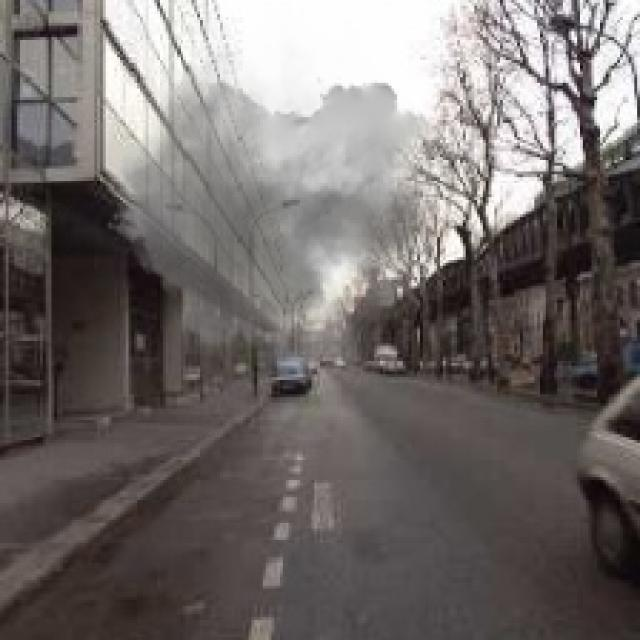smoke: (94, 3, 452, 388)
